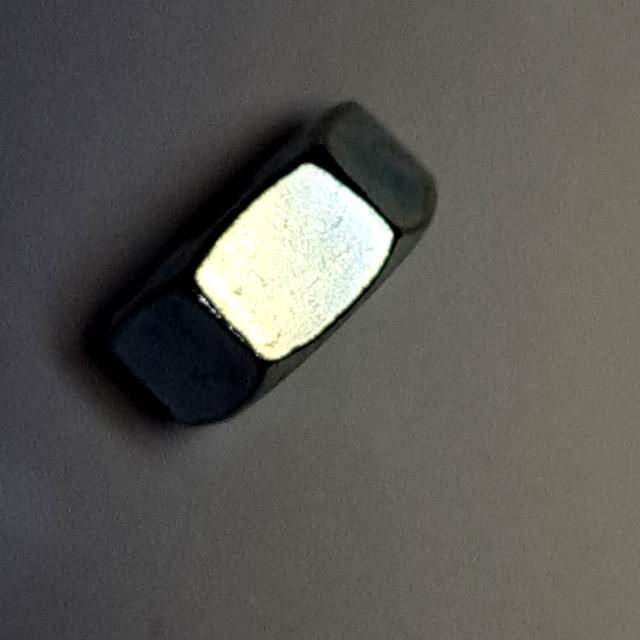Side_Excellent: (83, 89, 461, 449)
